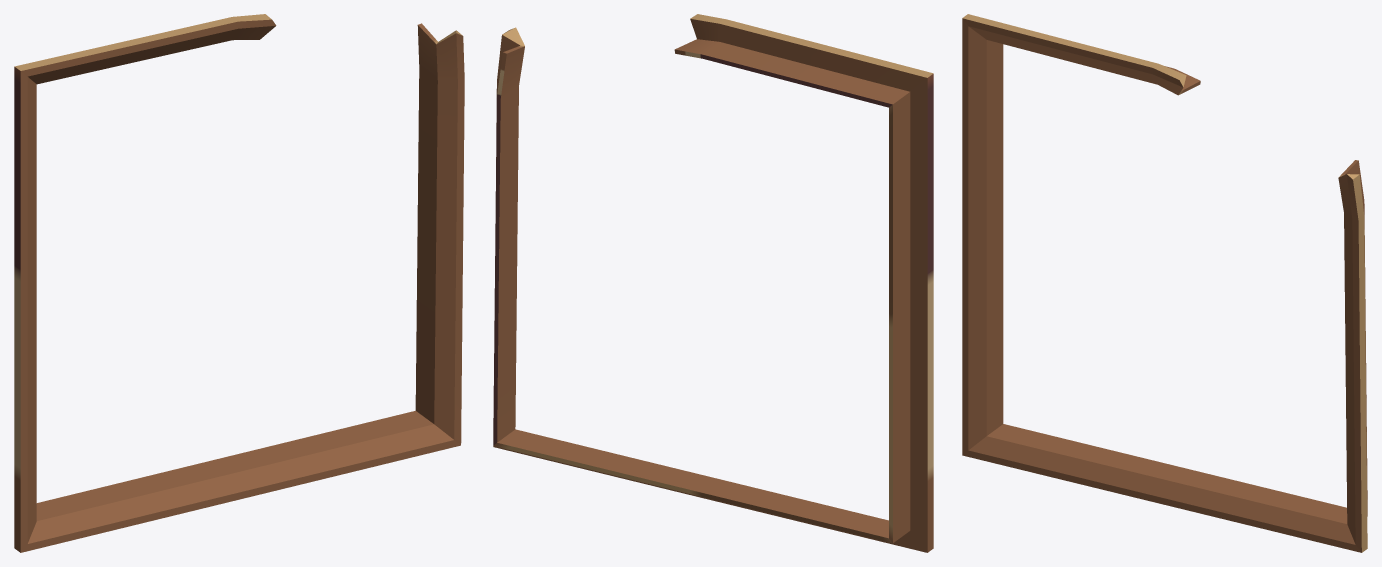
File: DBK_WinBig_Trim_C_90.fbx
3 views of the same model, side by side, from view 1: azimuth 30°, elevation 25°; view 2: azimuth 150°, elevation 25°; view 3: azimuth 330°, elevation 25° (orthographic). The views are drawn at different scales.
Visible parts, largest first — view 1: DBK_WinBig_Trim_C_90; view 2: DBK_WinBig_Trim_C_90; view 3: DBK_WinBig_Trim_C_90.
Boxes of the visible parts, x1,y1,x2,y2 form: DBK_WinBig_Trim_C_90: [14, 14, 464, 552]; DBK_WinBig_Trim_C_90: [493, 14, 933, 552]; DBK_WinBig_Trim_C_90: [962, 14, 1367, 552].
Size of the model in its own units: 220 by 230 by 25.91.
